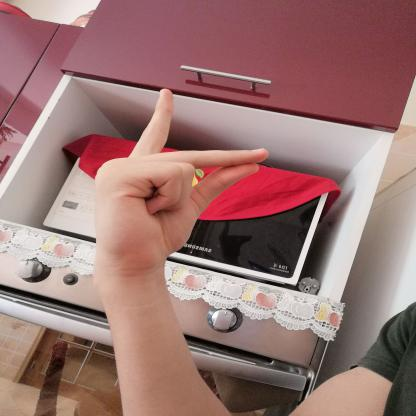TAA: (81, 79, 280, 281)
